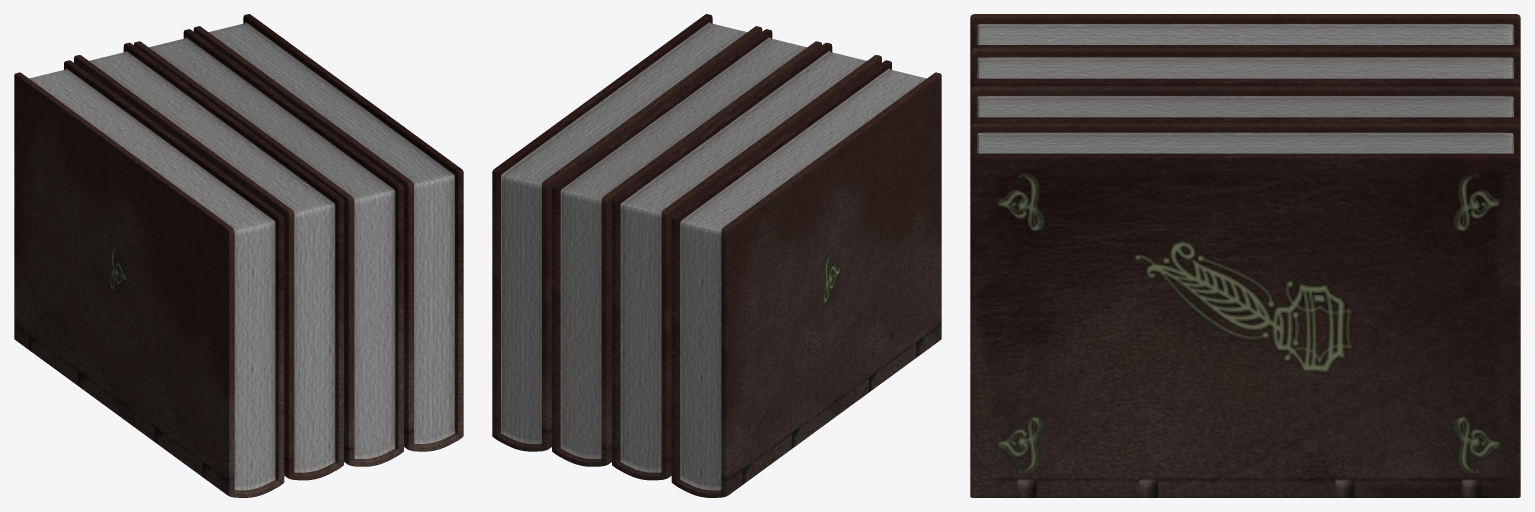
File: 10268_Books_Reference_L3.obj
3 views of the same model, side by side, from view 1: azimuth 30°, elevation 25°; view 2: azimuth 150°, elevation 25°; view 3: azimuth 270°, elevation 25° (orthographic). The views are drawn at different scales.
Parts seen in each view (by area): view 1: 10268_Books_Reference; view 2: 10268_Books_Reference; view 3: 10268_Books_Reference.
Part boxes in pixels (x1,y1,x2,y2): 10268_Books_Reference: [14, 14, 463, 497]; 10268_Books_Reference: [492, 14, 941, 497]; 10268_Books_Reference: [970, 14, 1520, 497].
Bounding box in the file's own units: 12.39 × 13.9 × 19.6.
Materials: 1 (1 with a texture image).
